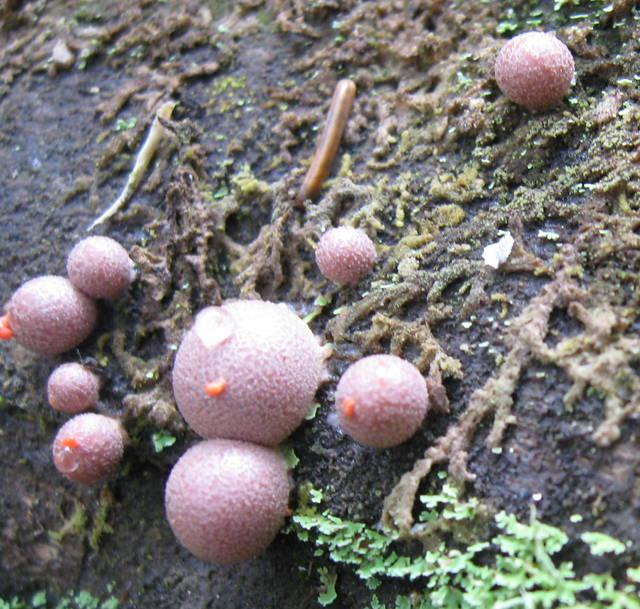poisonous_mushroom: (170, 297, 325, 445), (162, 437, 292, 565), (333, 352, 429, 448), (0, 273, 97, 355), (493, 29, 576, 112), (50, 411, 125, 485), (65, 233, 136, 300), (313, 224, 377, 287), (45, 360, 100, 412)
